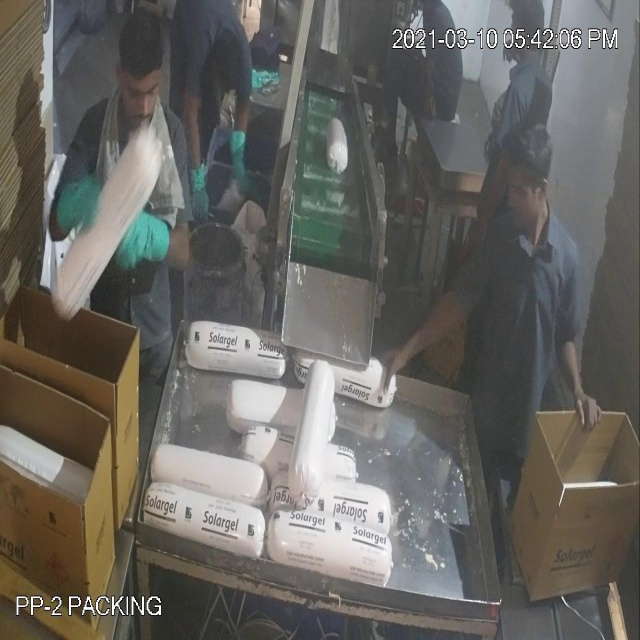Guantes: (108, 200, 180, 287), (47, 151, 104, 239), (228, 118, 260, 208), (188, 157, 217, 223)
Sin_guantes: (369, 280, 484, 398), (548, 307, 612, 460), (450, 144, 519, 271)
